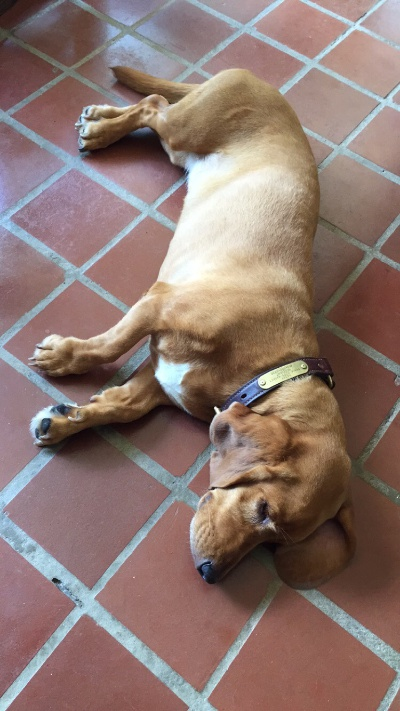daisy: (159, 399, 370, 601)
